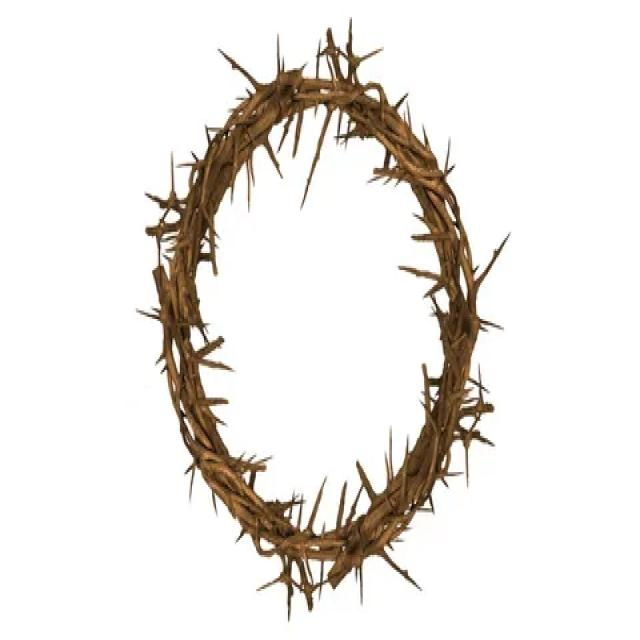crown: (154, 25, 494, 597)
